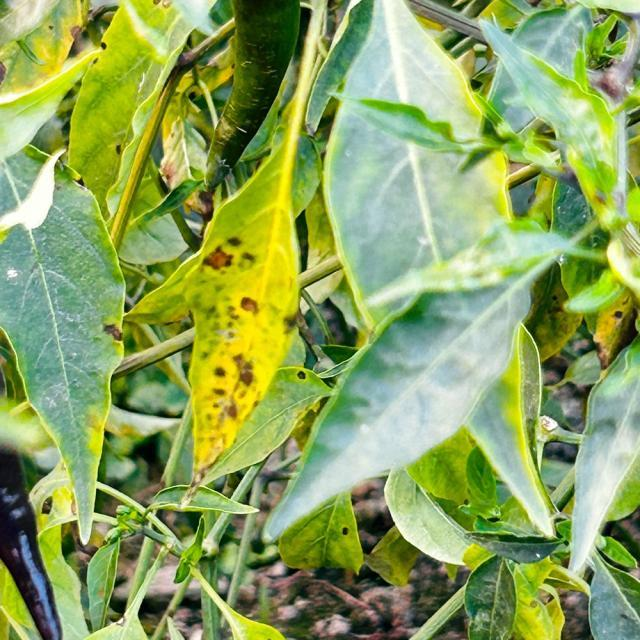Bercak Daun Serkospora: (0, 139, 128, 565), (182, 124, 306, 522)
